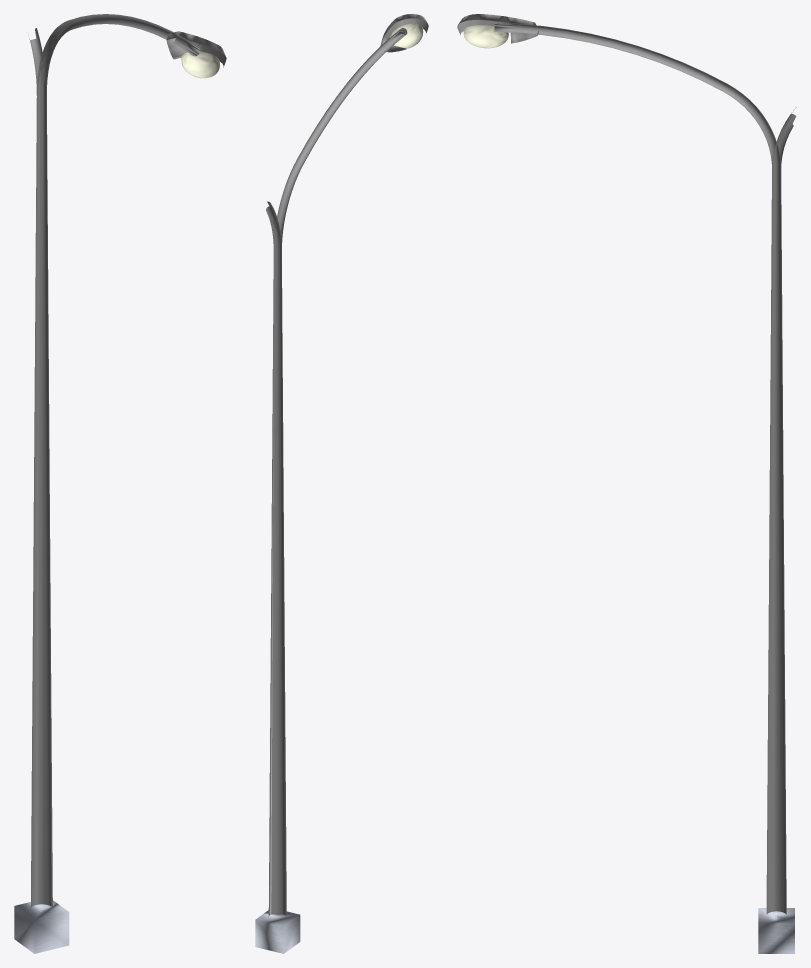
File: lamp_single.glb
The picture shows the model from 3 angles, left to right: view 1: azimuth 30°, elevation 25°; view 2: azimuth 150°, elevation 25°; view 3: azimuth 270°, elevation 25°; orthographic projection. The views are drawn at different scales.
Visible parts, largest first — view 1: ID548_node_40_w; view 2: ID548_node_40_w; view 3: ID548_node_40_w.
Boxes of the visible parts, bbox=[...] form: ID548_node_40_w: bbox=[14, 14, 226, 953]; ID548_node_40_w: bbox=[255, 14, 428, 953]; ID548_node_40_w: bbox=[457, 14, 796, 953].
Size of the model in its own units: 0.3408 by 8.6 by 2.86.
3 materials, 1 textured.
